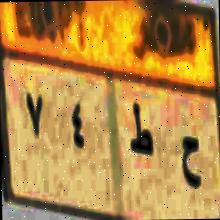4: (71, 100, 84, 150)
7: (22, 85, 44, 142)
7aa: (180, 130, 202, 190)
Taa: (127, 98, 154, 164)
